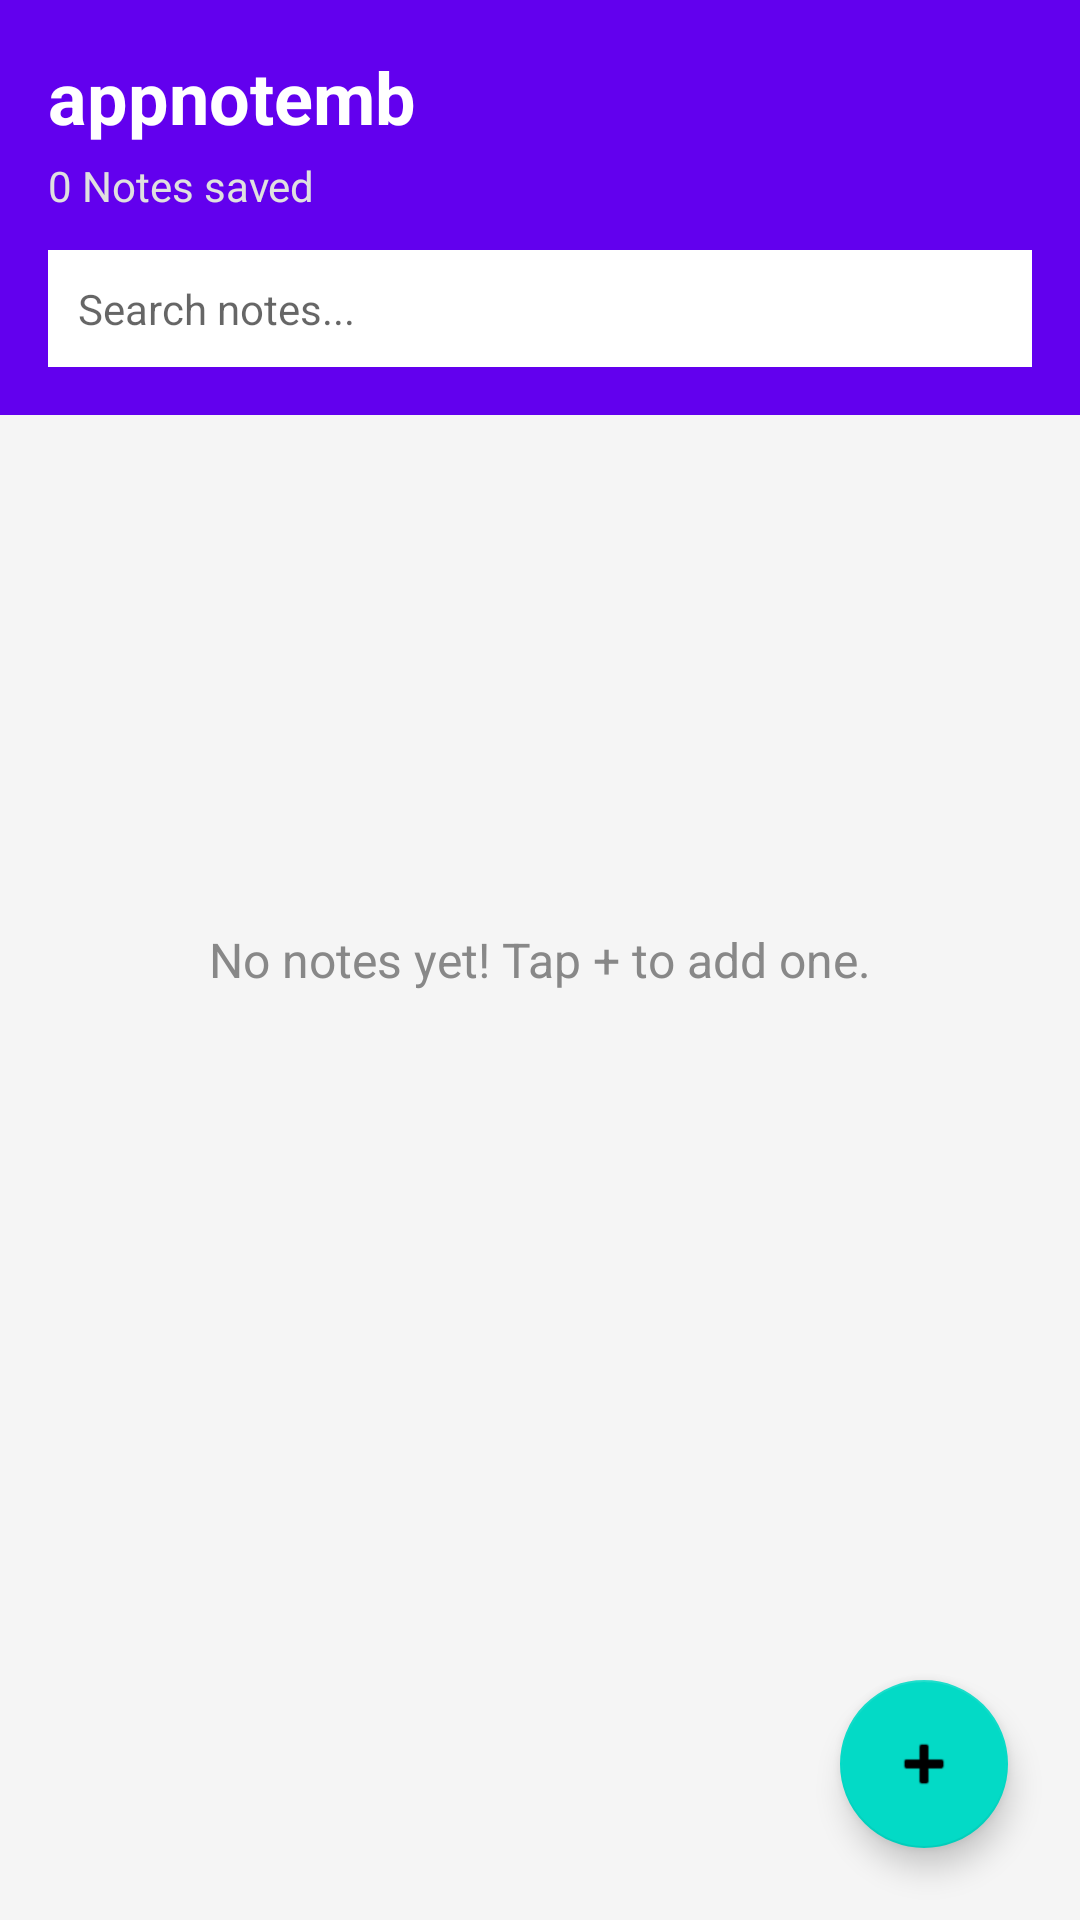

Icons on this 1080x1920 Android screen, each with its box as (x1, y1, x2, y2):
Add Note: (840, 1680, 1008, 1848)
